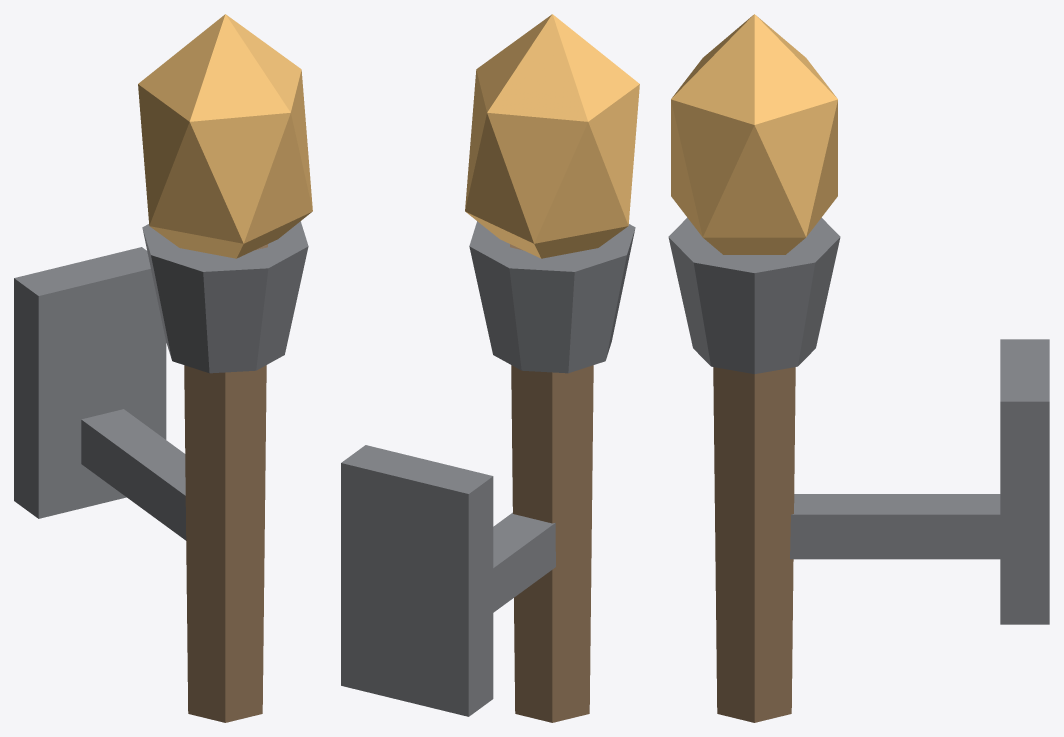
Rendered from HubWallTorch.fbx.
3 renders of one model, left to right at view 1: azimuth 30°, elevation 25°; view 2: azimuth 150°, elevation 25°; view 3: azimuth 270°, elevation 25°, orthographic.
Visible parts, largest first — view 1: HubWallTorch; view 2: HubWallTorch; view 3: HubWallTorch.
Boxes of the visible parts, x1=… form: HubWallTorch: x1=14, y1=14, x2=312, y2=722; HubWallTorch: x1=341, y1=14, x2=639, y2=722; HubWallTorch: x1=668, y1=14, x2=1049, y2=722.
Bounding box in the file's own units: 0.1431 × 0.62 × 0.31.
